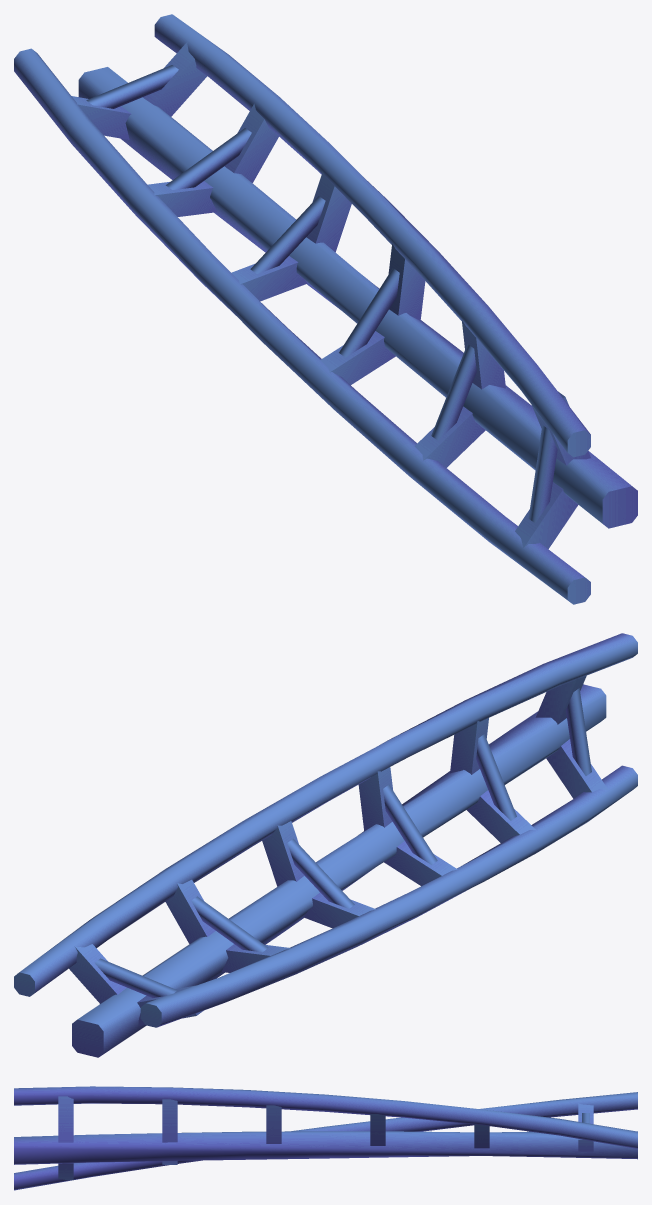
File: coaster-steel-straight-skew-right-side.glb
3 renders of one model, top to bottom at view 1: azimuth 30°, elevation 25°; view 2: azimuth 150°, elevation 25°; view 3: azimuth 270°, elevation 25°, orthographic. The views are drawn at different scales.
Visible parts, largest first — view 1: coaster-steel-straight-skew-right-side; view 2: coaster-steel-straight-skew-right-side; view 3: coaster-steel-straight-skew-right-side.
Boxes of the visible parts, left/top/right/bottom form: coaster-steel-straight-skew-right-side: left=14, top=14, right=637, bottom=604; coaster-steel-straight-skew-right-side: left=14, top=633, right=637, bottom=1057; coaster-steel-straight-skew-right-side: left=14, top=1086, right=637, bottom=1190.
Size of the model in its own units: 2.38 by 2.38 by 12.
Materials: 1 (1 with a texture image).
